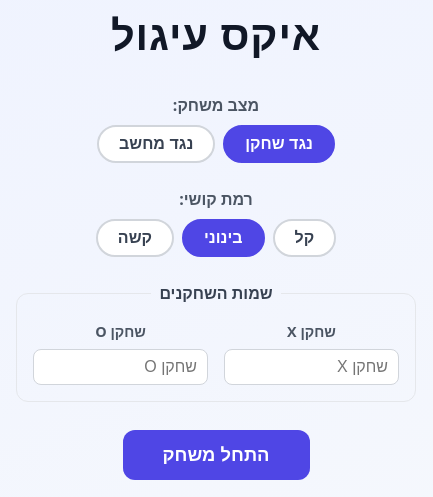
Test: HomeScreen › shows a single name field in vs-computer mode
Click the button "נגד מחשב". click: click(156, 144)
box: [97, 125, 215, 163]
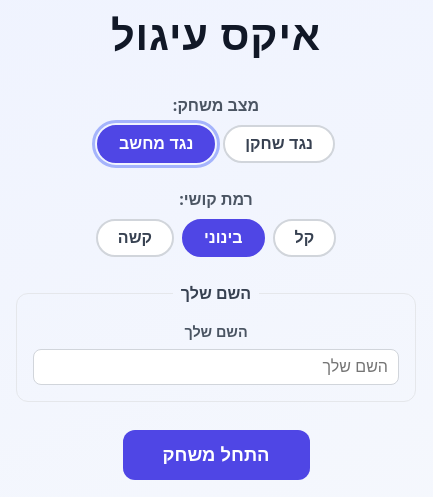
expect the field labelled "השם שלך" is shown: met, box [33, 349, 399, 385]
expect the label labelled "שחקן O" is gone: met
